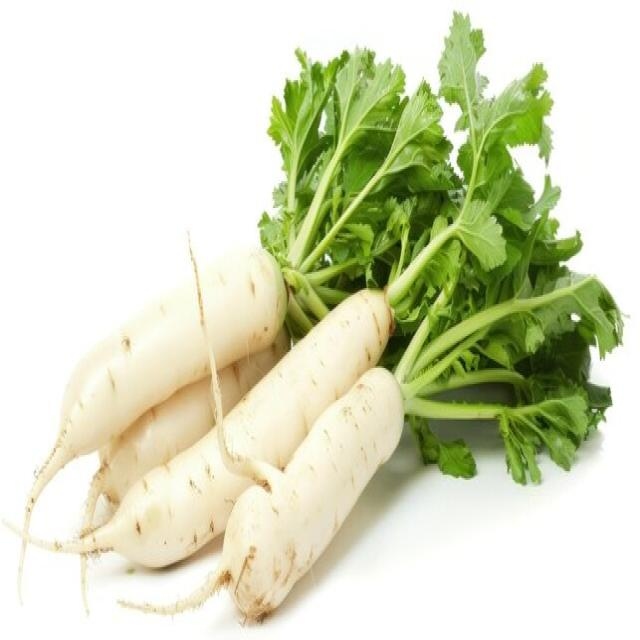Carrot: (116, 362, 405, 626)
Radish: (106, 268, 613, 624), (258, 9, 627, 487), (78, 320, 290, 560)
